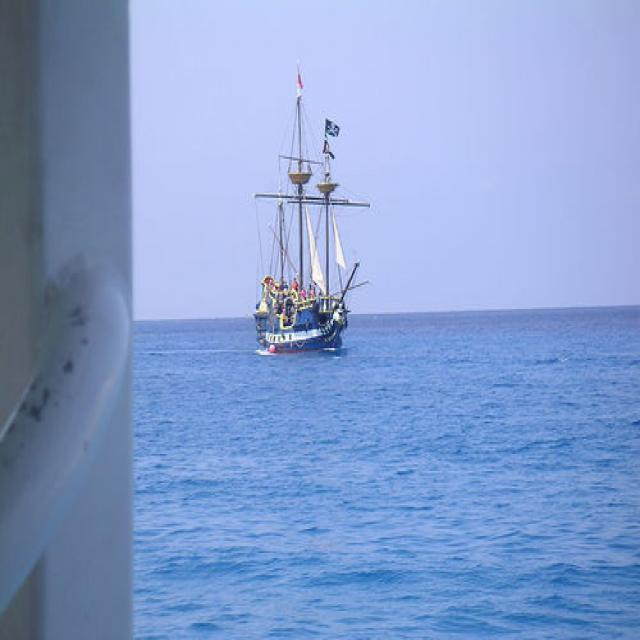Ship: (243, 87, 363, 355)
